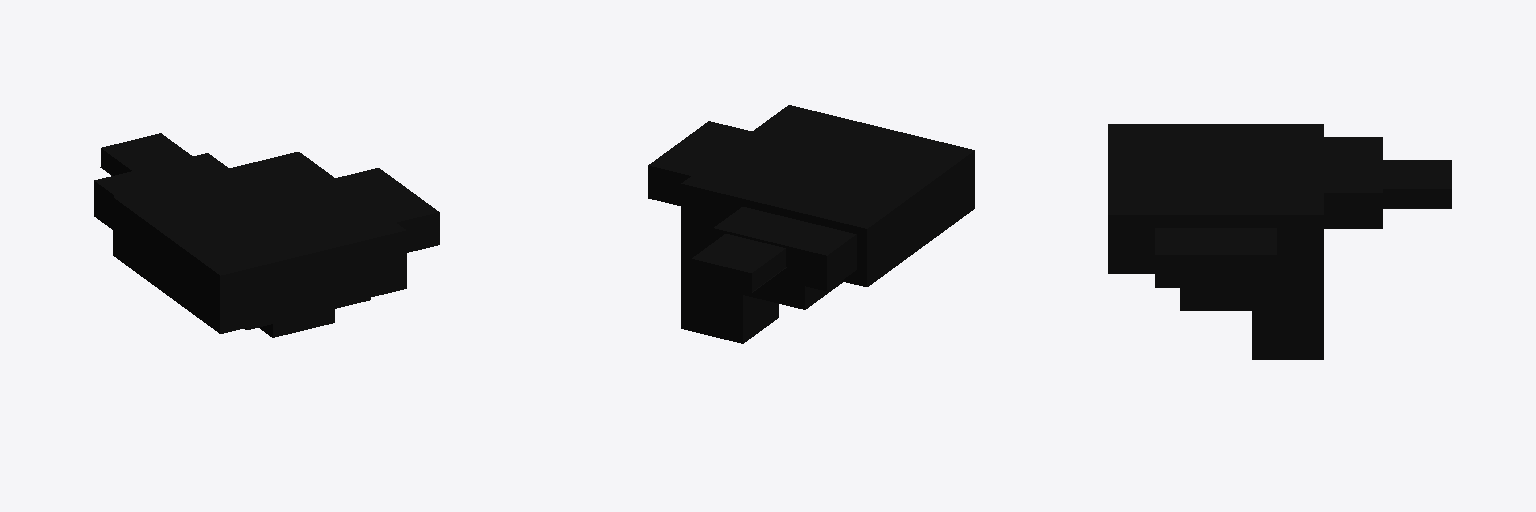
Rendered from floatingIsland3.obj.
The picture shows the model from 3 angles: view 1: azimuth 30°, elevation 25°; view 2: azimuth 150°, elevation 25°; view 3: azimuth 270°, elevation 25°; orthographic projection.
Visible parts, largest first — view 1: Cube.002; view 2: Cube.002; view 3: Cube.002.
Boxes of the visible parts, x1=… form: Cube.002: x1=94, y1=133, x2=439, y2=337; Cube.002: x1=648, y1=105, x2=974, y2=343; Cube.002: x1=1108, y1=124, x2=1451, y2=359.
Size of the model in its own units: 5.07 by 2.9 by 6.21.